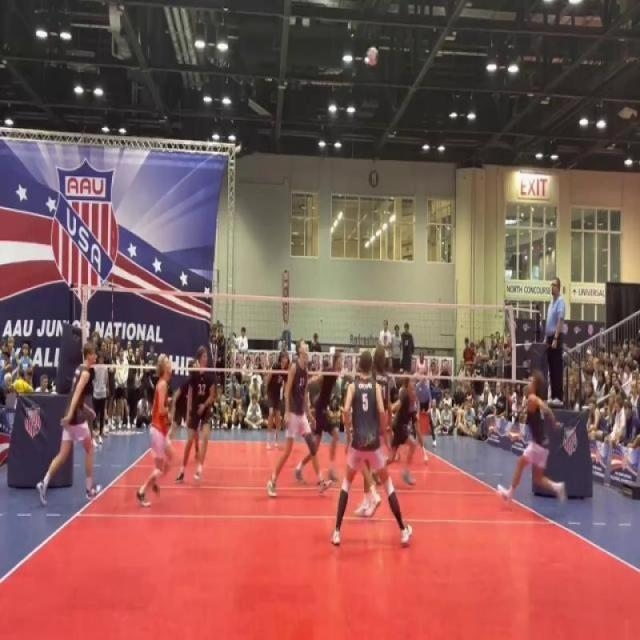volleyball: (366, 44, 378, 68)
